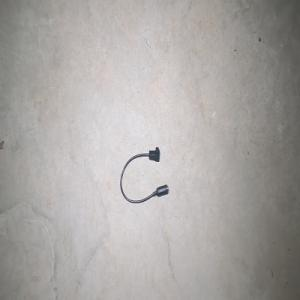Wire: (120, 147, 169, 203)
